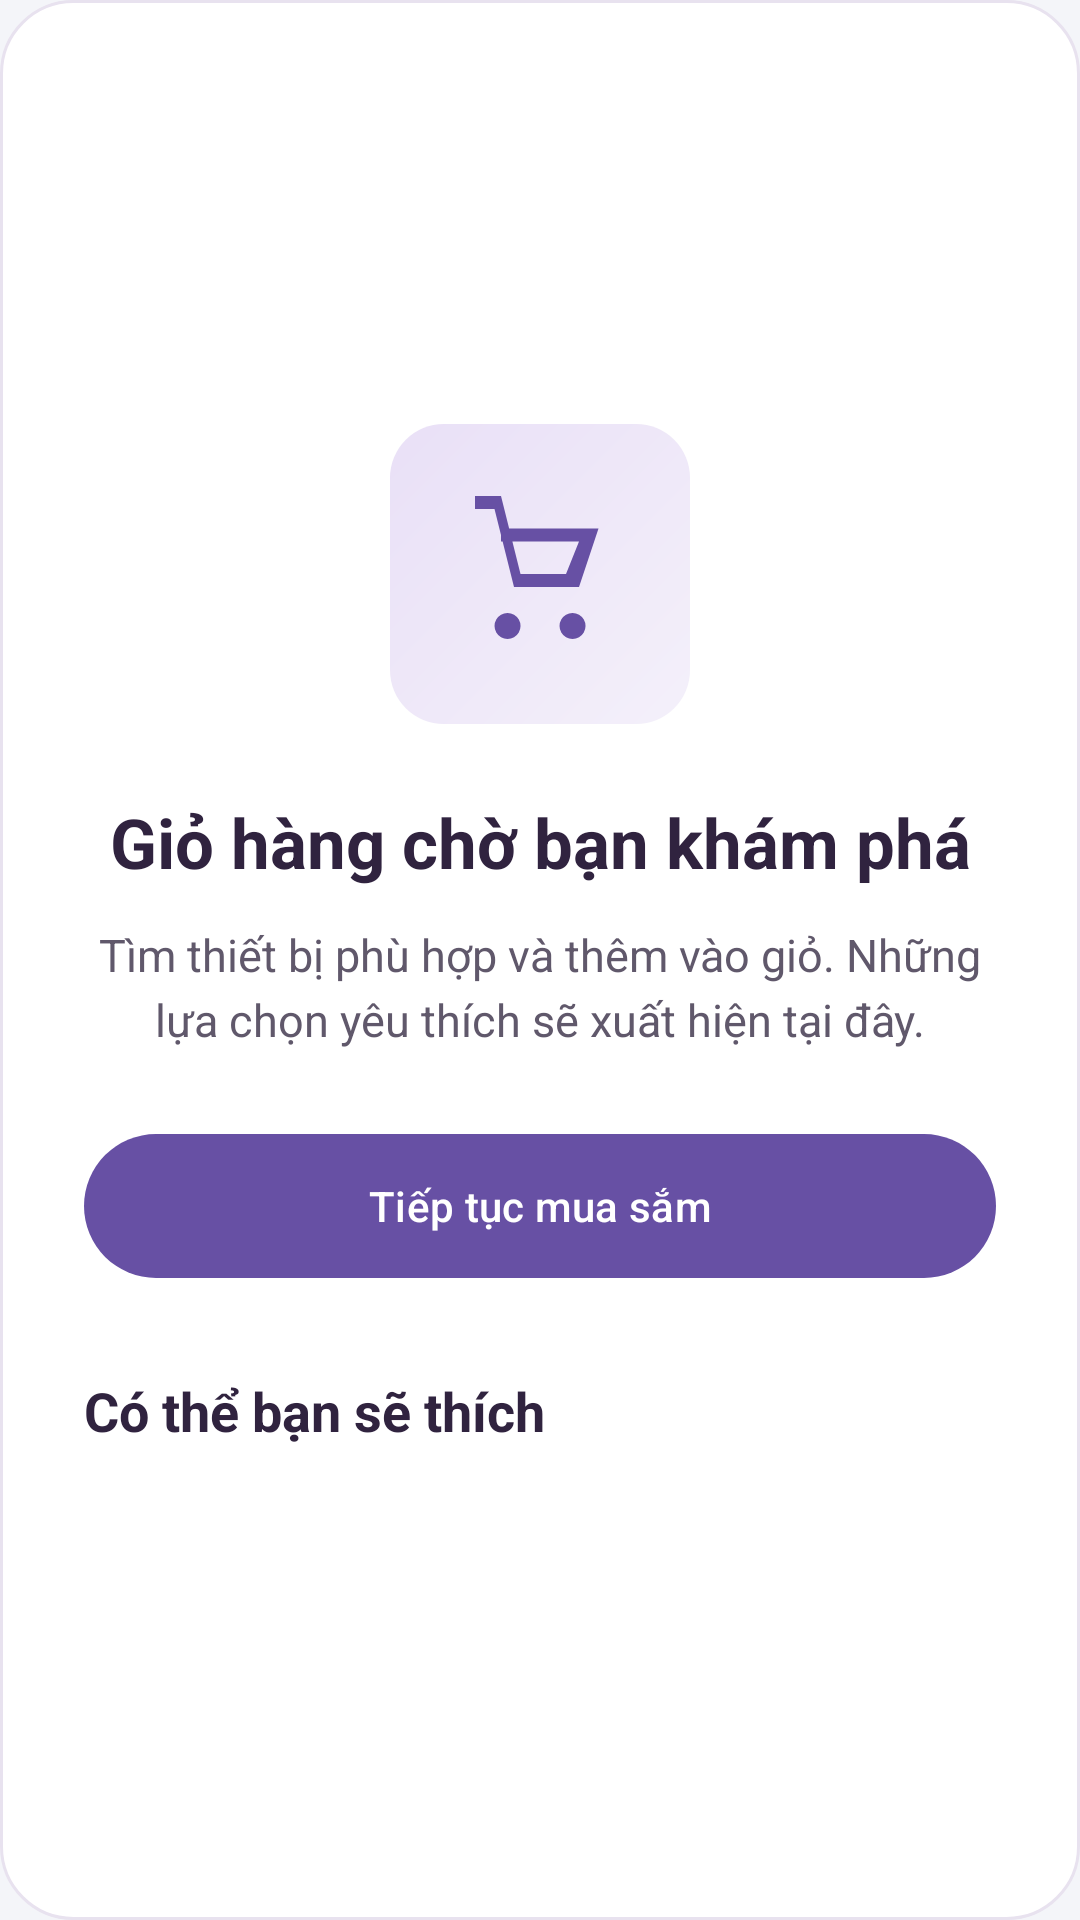

Screen size 1080px x 1920px. Icon name, then its box in pixels as rect(x1, y1, x2, y2):
cart: rect(390, 424, 633, 667)
